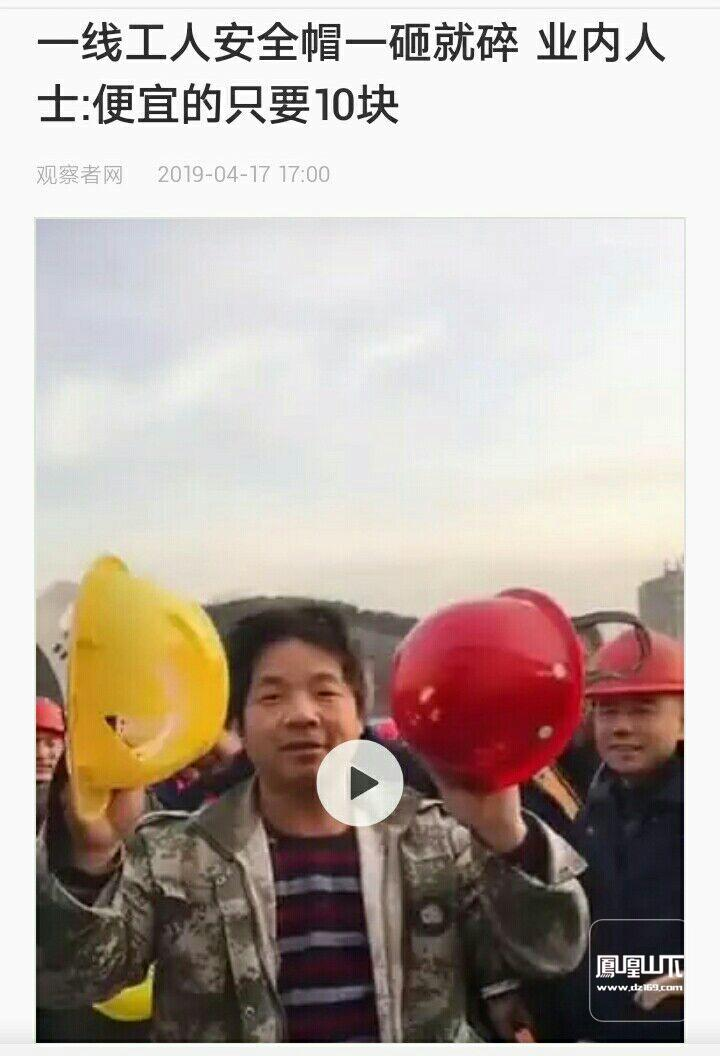helmet: (71, 548, 233, 794), (391, 588, 583, 794), (581, 616, 686, 703)
